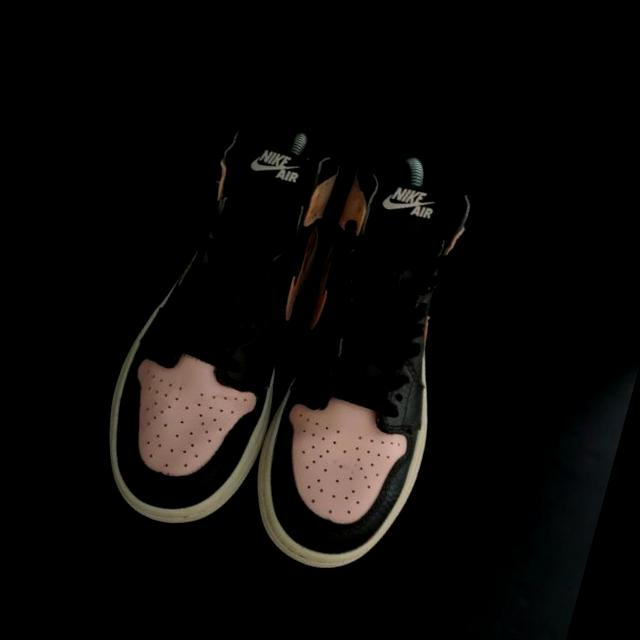nike_fake_jordan: (77, 77, 355, 551), (238, 124, 505, 594)
